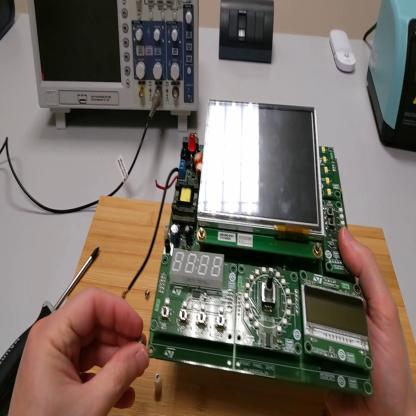hand: (9, 286, 148, 416), (327, 225, 412, 415)
low voltage board: (125, 99, 376, 399)
oscilloscope: (29, 3, 200, 133)
screwdriver-: (2, 246, 102, 413)
socket: (2, 1, 17, 41)
welder station: (367, 1, 416, 153)
working area: (71, 197, 416, 415)
